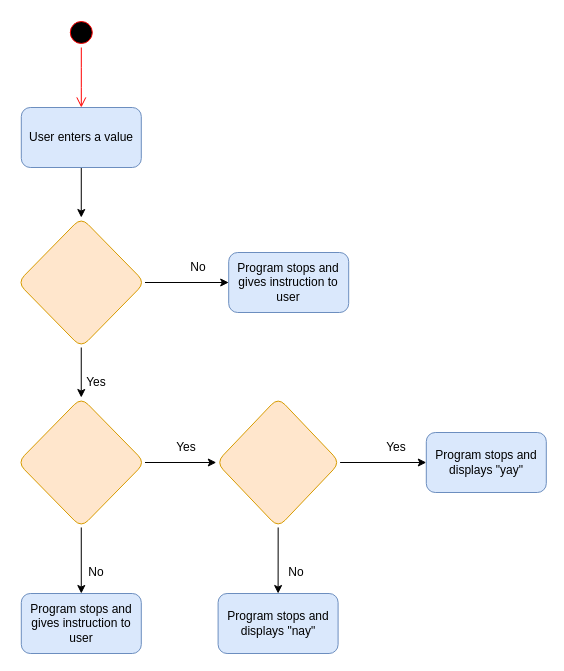
Image size: 564x671. Some labels were removed from this diagram. The shapes that lost their labels are listed below. From the top down, each one's centre as x and y in pixels, then its label:
At (80,282): "Can entered value be converted to number?".
At (80,462): "Is number higher than 1581?".
At (277,462): "Is number qualified as a leap year?".
